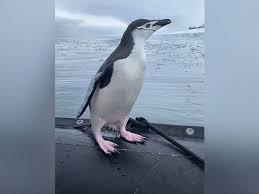chinstrap: (65, 4, 159, 166)
